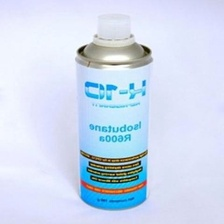aerosol_cans: (71, 8, 156, 213)
